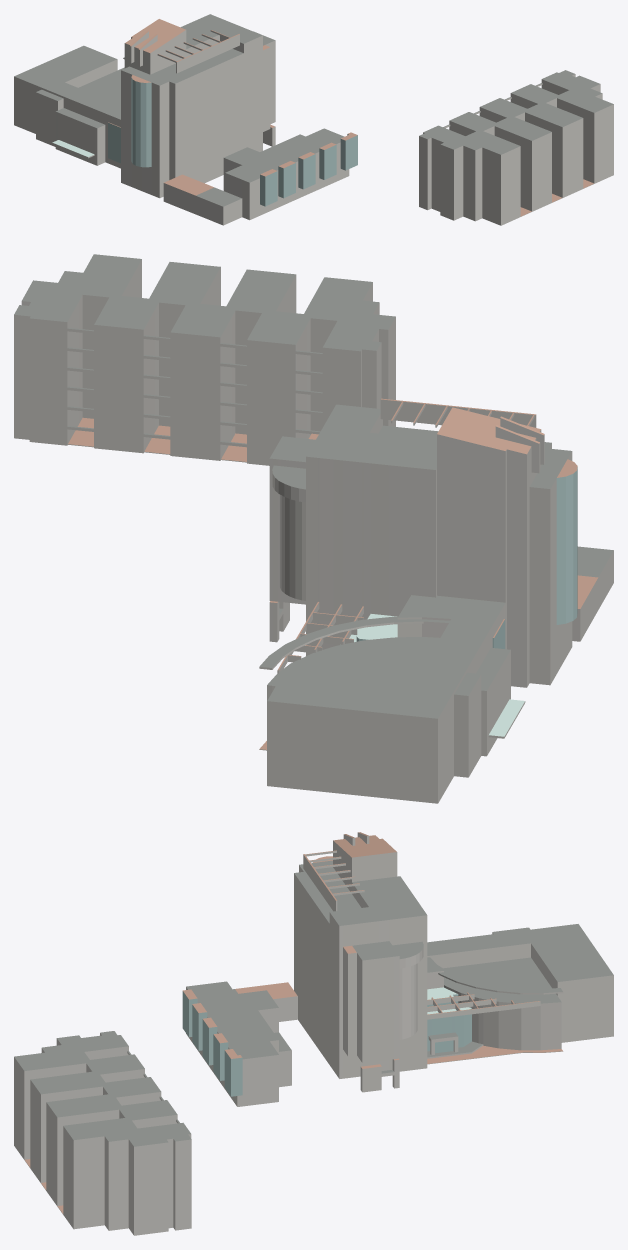
The model's file is gridID_50.dae.
The picture shows the model from 3 angles, top to bottom: view 1: azimuth 30°, elevation 25°; view 2: azimuth 150°, elevation 25°; view 3: azimuth 270°, elevation 25°; orthographic projection. The views are drawn at different scales.
Visible parts, largest first — view 1: model_gridID_50_w116941146_001, model_gridID_50_w116941144, model_gridID_50_w375411989, model_gridID_50_w116941146_002, model_gridID_50_w116941146, model_gridID_50_w116941146_003; view 2: model_gridID_50_w116941146_001, model_gridID_50_w116941144, model_gridID_50_w375411989, model_gridID_50_w116941146, model_gridID_50_w116941146_003; view 3: model_gridID_50_w116941146_001, model_gridID_50_w116941144, model_gridID_50_w375411989, model_gridID_50_w116941146_002, model_gridID_50_w116941146_003.
Part boxes in pixels (bbox=[...]): model_gridID_50_w116941146_001: bbox=[121, 14, 275, 198]; model_gridID_50_w116941144: bbox=[419, 70, 613, 225]; model_gridID_50_w375411989: bbox=[14, 45, 124, 168]; model_gridID_50_w116941146_002: bbox=[223, 128, 357, 220]; model_gridID_50_w116941146: bbox=[195, 187, 242, 225]; model_gridID_50_w116941146_003: bbox=[163, 174, 213, 214]; model_gridID_50_w116941146_001: bbox=[269, 398, 577, 687]; model_gridID_50_w116941144: bbox=[14, 254, 395, 465]; model_gridID_50_w375411989: bbox=[259, 595, 525, 803]; model_gridID_50_w116941146: bbox=[577, 546, 613, 609]; model_gridID_50_w116941146_003: bbox=[572, 575, 598, 641]; model_gridID_50_w116941146_001: bbox=[294, 832, 427, 1092]; model_gridID_50_w116941144: bbox=[14, 1031, 191, 1235]; model_gridID_50_w375411989: bbox=[427, 924, 613, 1064]; model_gridID_50_w116941146_002: bbox=[182, 981, 291, 1106]; model_gridID_50_w116941146_003: bbox=[235, 982, 297, 1021].
Bounding box in the file's own units: 114 × 115 × 38.2.
